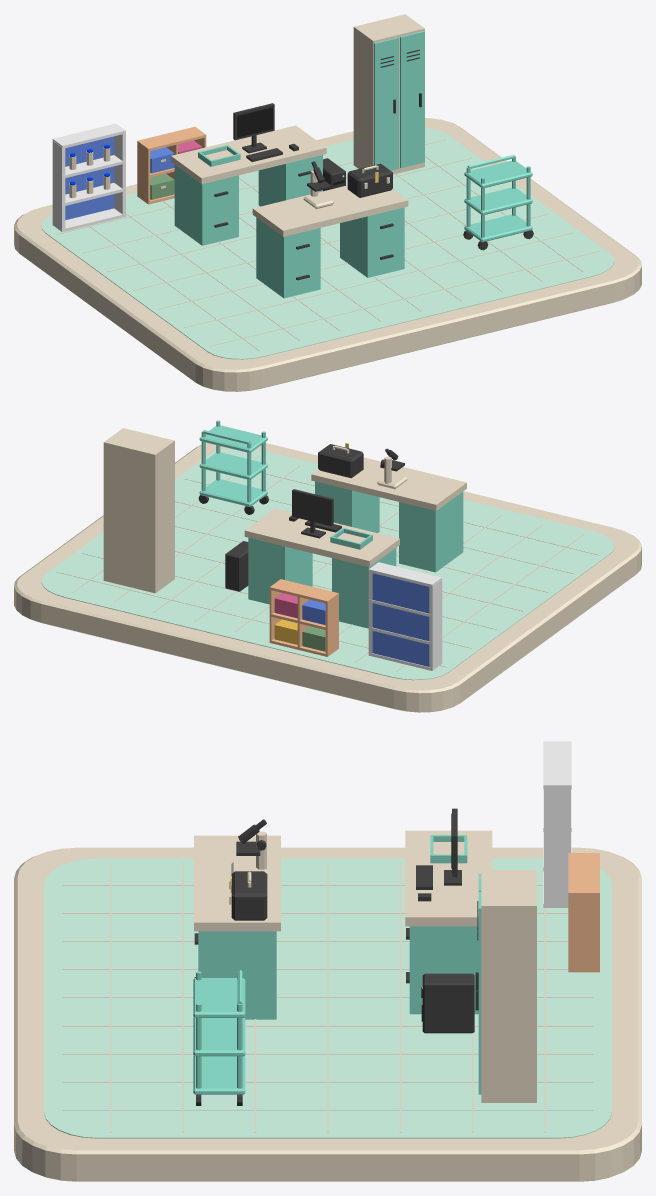
The model's file is room.fbx.
3 views of the same model, one above another, from view 1: azimuth 30°, elevation 25°; view 2: azimuth 150°, elevation 25°; view 3: azimuth 270°, elevation 25° (orthographic). The views are drawn at different scales.
Parts seen in each view (by area): view 1: COM-02 Floor Surface, COM-01 Rounded Base Direct, Case.001, Worktop, Storage module.002, Storage module, Worktop.001, Storage module.001, Door.001, Door, Cabinet back, Storage module.003 (+16 smaller); view 2: COM-02 Floor Surface, COM-01 Rounded Base Direct, Case.001, Cabinet back, Storage module, Worktop.001, Worktop, Storage module.003, Storage module.002, Storage module.001, Frame, Case (+12 smaller); view 3: COM-02 Floor Surface, COM-01 Rounded Base Direct, Case.001, Worktop.001, Worktop, Storage module.001, Storage module.003, Tower, Clean supply cabinet side.001, Cubbies divider.002, Tray.002, Case (+11 smaller).
Boxes of the visible parts, x1,y1,x2,y2 form: COM-02 Floor Surface: [41, 128, 614, 359]; COM-01 Rounded Base Direct: [14, 118, 641, 391]; Case.001: [353, 14, 424, 174]; Worktop: [252, 185, 408, 236]; Storage module.002: [174, 165, 238, 245]; Storage module: [256, 217, 320, 298]; Worktop.001: [171, 125, 326, 184]; Storage module.001: [340, 207, 404, 277]; Door.001: [400, 31, 424, 168]; Door: [374, 37, 398, 170]; Cabinet back: [65, 136, 114, 220]; Storage module.003: [258, 155, 322, 206]; COM-02 Floor Surface: [41, 448, 614, 680]; COM-01 Rounded Base Direct: [14, 442, 641, 712]; Case.001: [103, 428, 174, 593]; Cabinet back: [372, 573, 429, 666]; Storage module: [399, 492, 463, 572]; Worktop.001: [244, 508, 399, 566]; Worktop: [311, 457, 466, 510]; Storage module.003: [248, 537, 312, 604]; Storage module.002: [332, 548, 396, 628]; Storage module.001: [315, 481, 379, 532]; Frame: [292, 489, 333, 538]; Case: [318, 444, 363, 478]; COM-02 Floor Surface: [44, 858, 611, 1138]; COM-01 Rounded Base Direct: [14, 847, 641, 1181]; Case.001: [481, 870, 536, 1102]; Worktop.001: [405, 830, 492, 926]; Worktop: [194, 835, 280, 931]; Storage module.001: [198, 931, 276, 1019]; Storage module.003: [409, 926, 478, 1014]; Tower: [422, 973, 474, 1033]; Clean supply cabinet side.001: [544, 787, 570, 907]; Cubbies divider.002: [568, 893, 599, 972]; Tray.002: [193, 978, 245, 1017]; Case: [231, 871, 267, 920].
Size of the model in its own units: 600 by 210 by 520.
